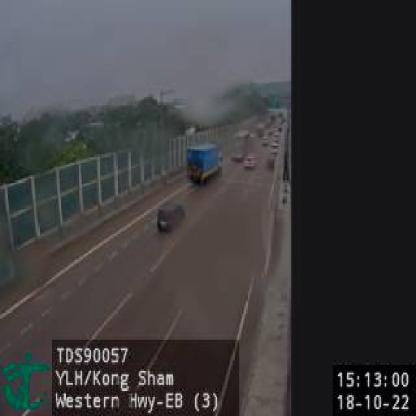Car: (156, 199, 186, 233), (243, 154, 257, 172)
Truck: (186, 141, 222, 187)
